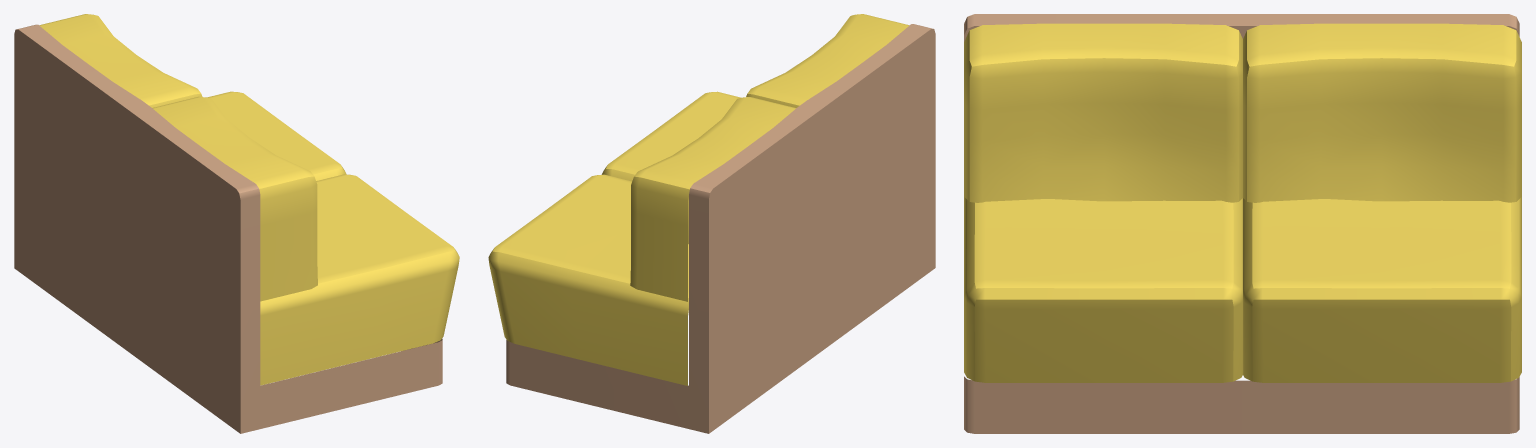
File: SM_Sofa_4.fbx
3 renders of one model, left to right at view 1: azimuth 30°, elevation 25°; view 2: azimuth 150°, elevation 25°; view 3: azimuth 270°, elevation 25°, orthographic. The views are drawn at different scales.
Parts seen in each view (by area): view 1: SM_Sofa_4; view 2: SM_Sofa_4; view 3: SM_Sofa_4.
Part boxes in pixels (x1,y1,x2,y2): SM_Sofa_4: (14,14,459,433); SM_Sofa_4: (488,14,935,433); SM_Sofa_4: (964,14,1521,433).
Bounding box in the file's own units: 79.13 × 81.1 × 138.
